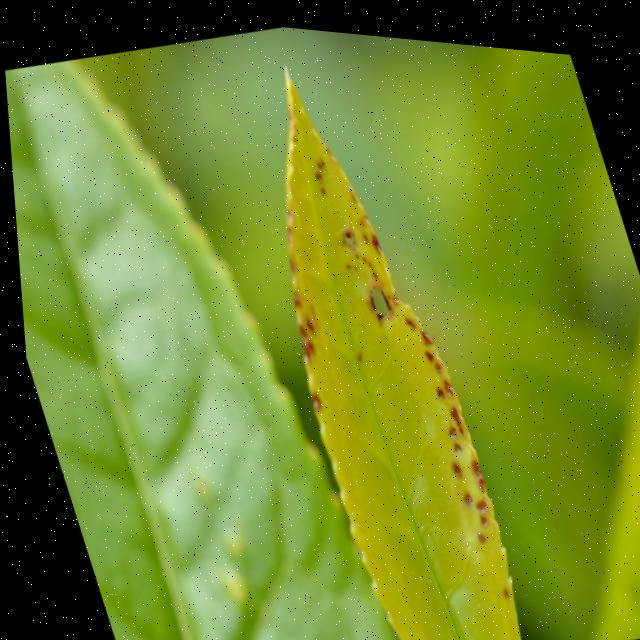Tea red scab: (221, 79, 519, 618), (321, 172, 542, 608)
